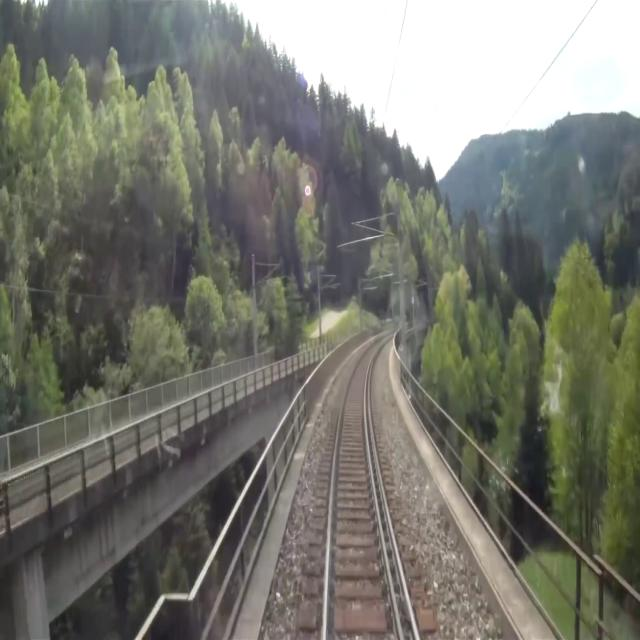rail-track: (326, 339, 396, 639)
